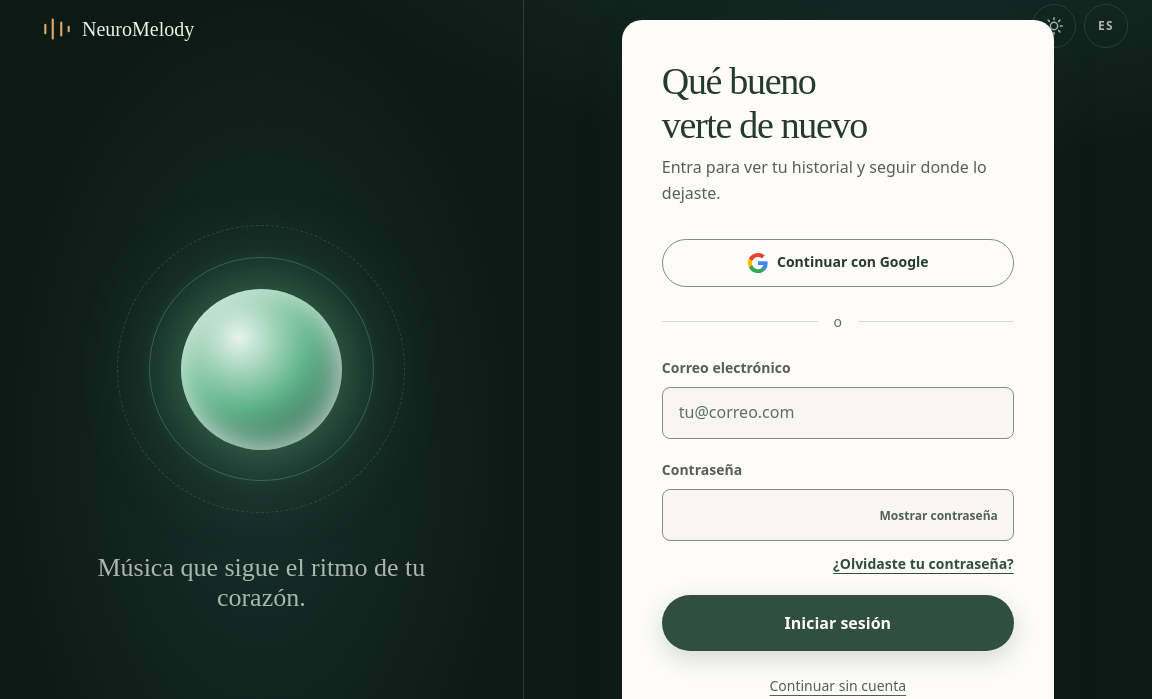
Test: sign-in screens › words a rejected password from the dictionary
This screenshot has width=1152, height=699.
Type "persona@example.test" into the field labelled "Correo electrónico" at (838, 413), box [662, 387, 1014, 439]
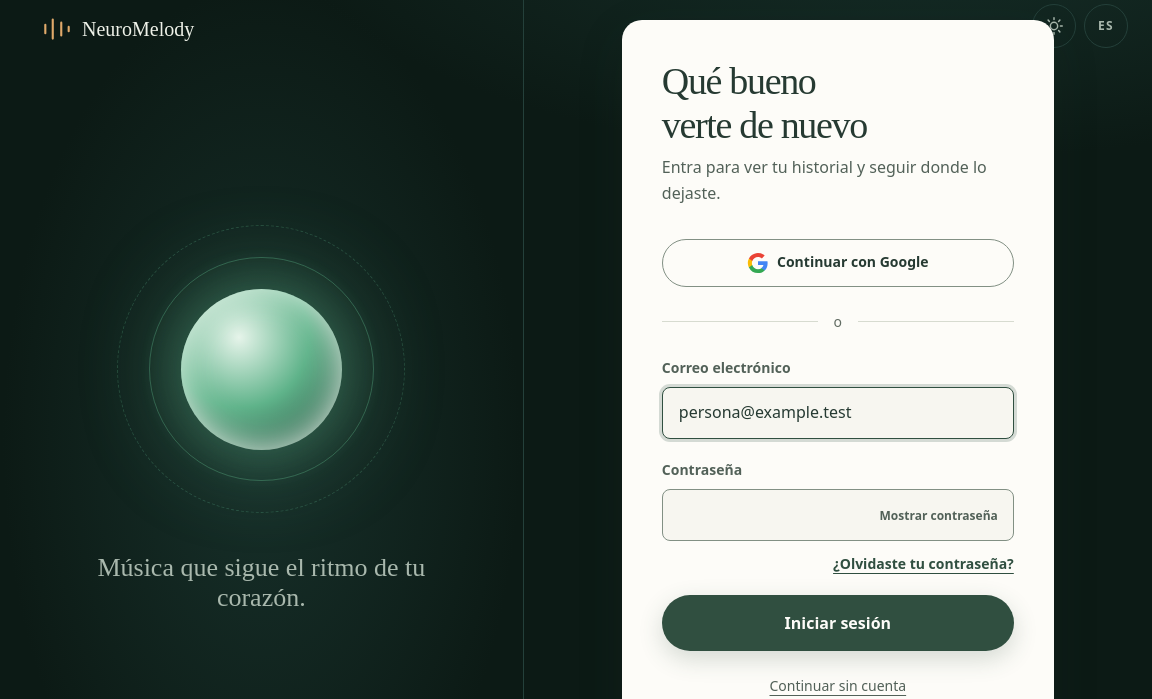
Type "una-contraseña-larga" into the password field labelled "Contraseña" at (838, 515), box [662, 489, 1014, 541]
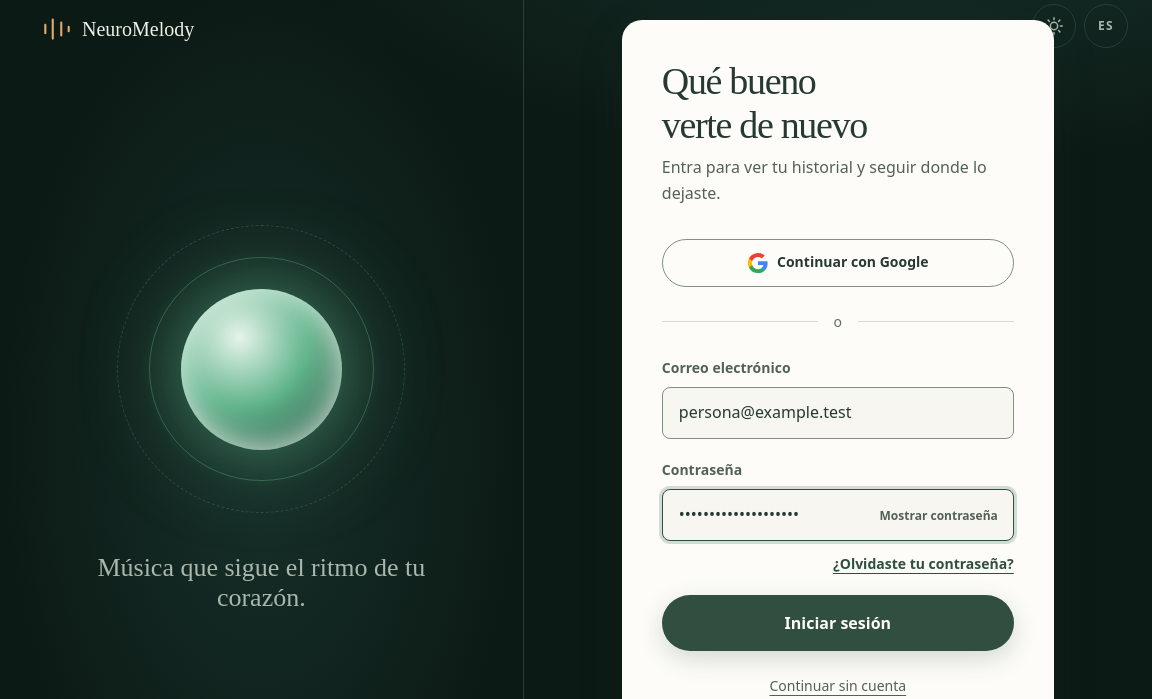
Click the button "Iniciar sesión" at (838, 623), box [662, 595, 1014, 651]
(page scrolled)
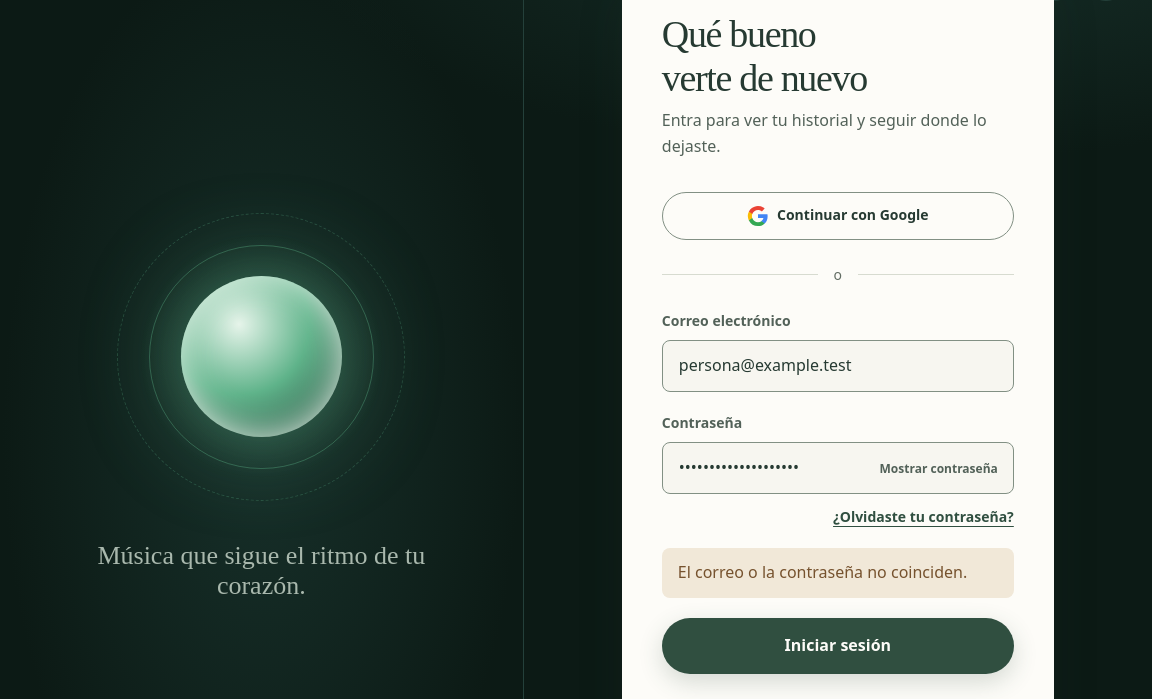
Now the text "El correo o la contraseña no coinciden." is shown, box [662, 548, 1014, 598]
